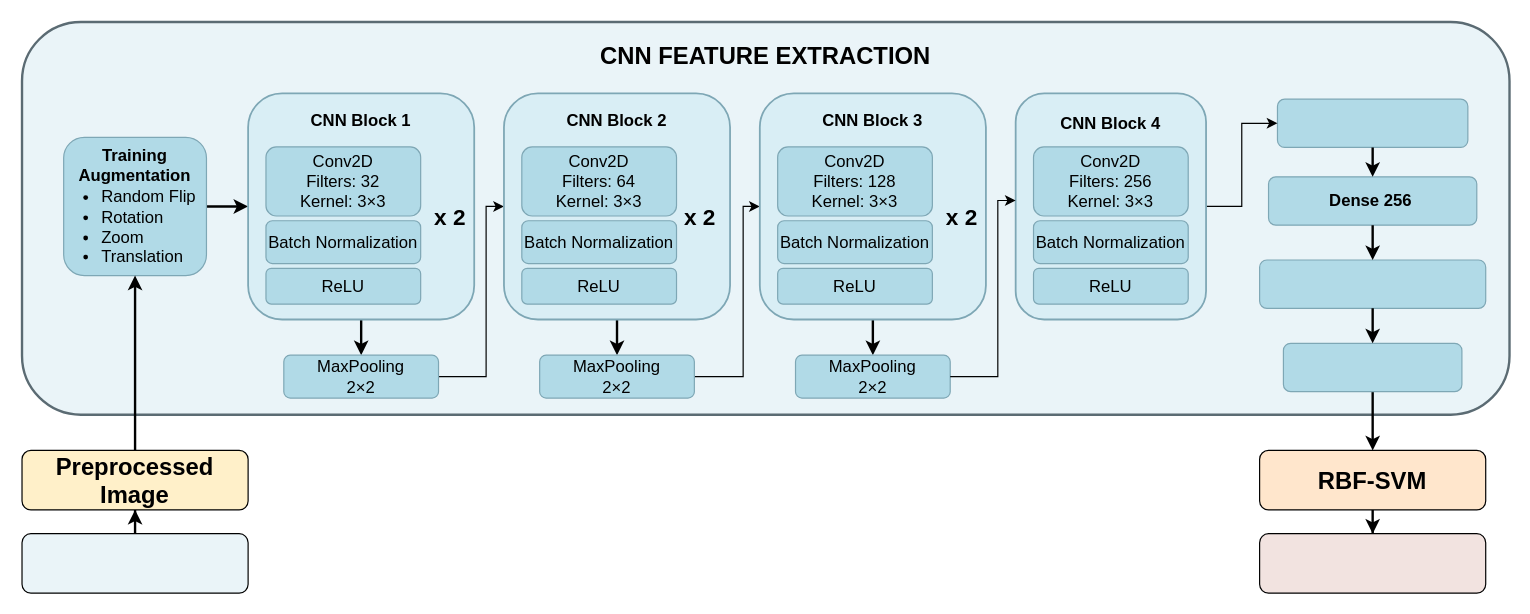
Some shapes in this 1530 by 614 pixel diagram are drawn without their labels. The shapes that lost their labels are listed below. From the top down, each one's box as (x1, y1, x2, y2) in pixels, then its label:
(1276, 98, 1468, 147): Global Average Pooling
(1258, 259, 1486, 308): TTA-4 feature averaging
(1282, 342, 1462, 392): CNN Feature Vector (256-D)
(21, 533, 248, 593): Input Image
(1258, 533, 1486, 593): Predicted Class
